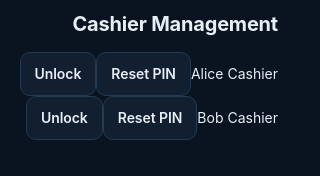
CashierManagement (T078) › Unlock action (T073 bridge) › shows generic success message on unlocked
expect the text "Alice Cashier" is shown: met, box [191,65,278,82]
Click the button "Unlock" in the row of "Alice Cashier".
click(58, 74)  # box [20,52,96,96]
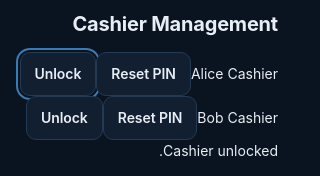
expect the message "Cashier unlocked." is shown: met, box [159,142,278,159]
